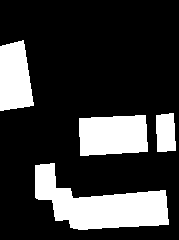parkingspot: (35, 163, 168, 229), (79, 115, 147, 155), (0, 40, 33, 110), (156, 113, 175, 151)
